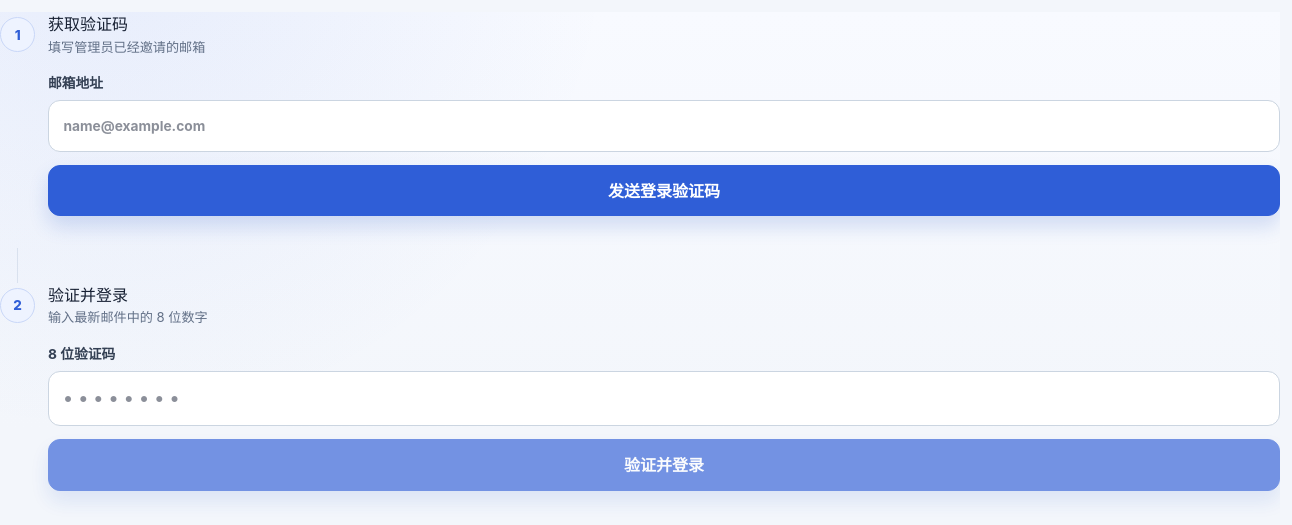
Test case: LoginForm › shows the safe uninvited result and preserves the typed address
Type "new@example.com" into the field labelled "邮箱地址" at [664, 126], box [48, 100, 1280, 152]
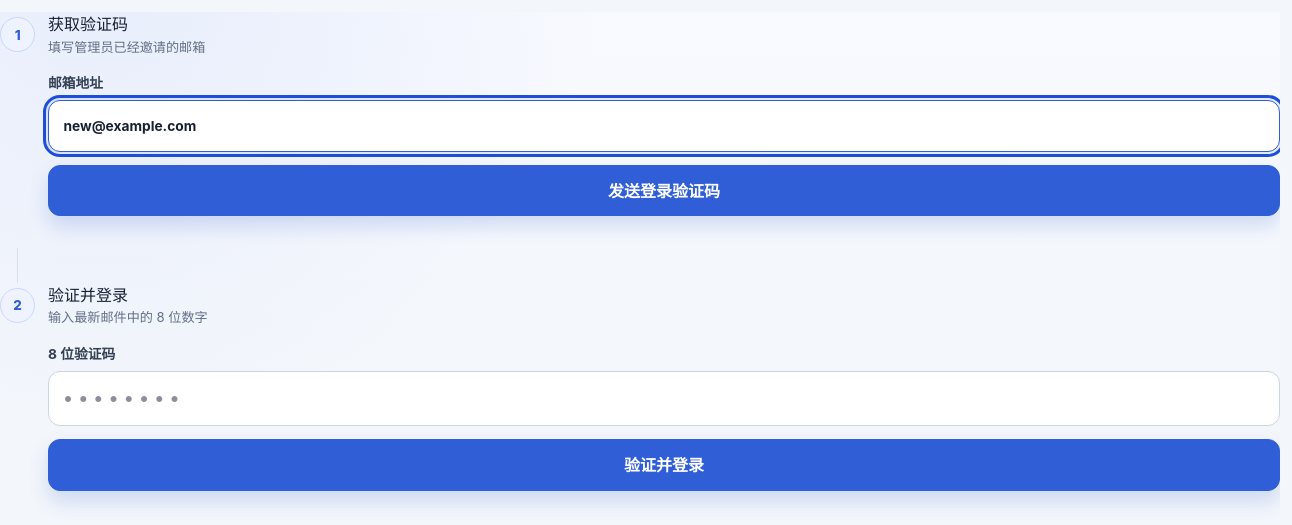
Click the button "发送登录验证码" at [664, 191], box [48, 165, 1280, 216]
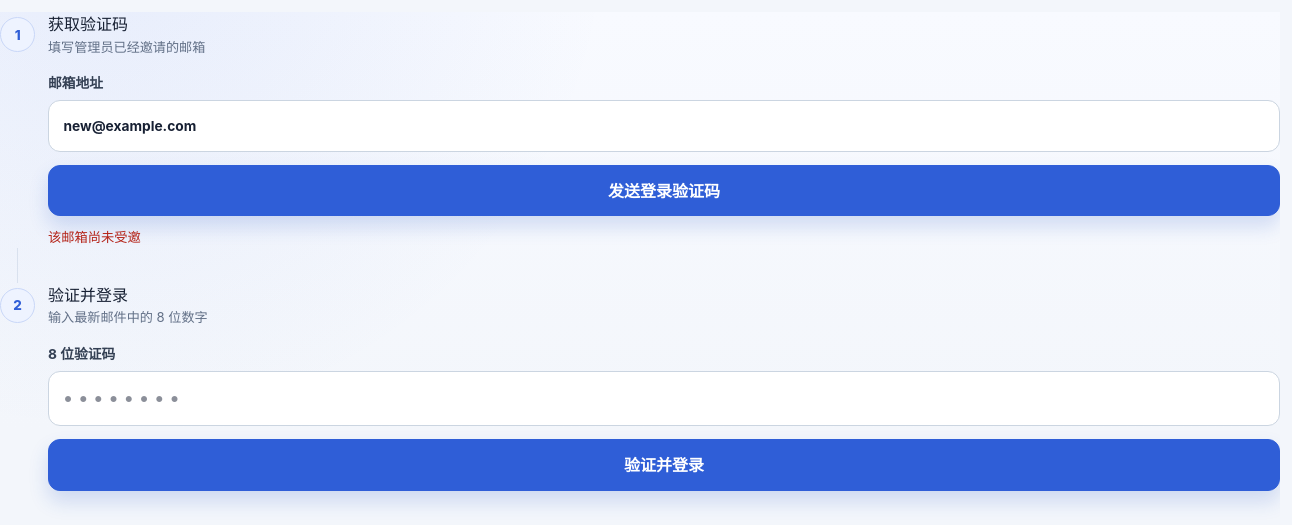
Expected: the text "该邮箱尚未受邀" is shown, [48, 229, 141, 245]
